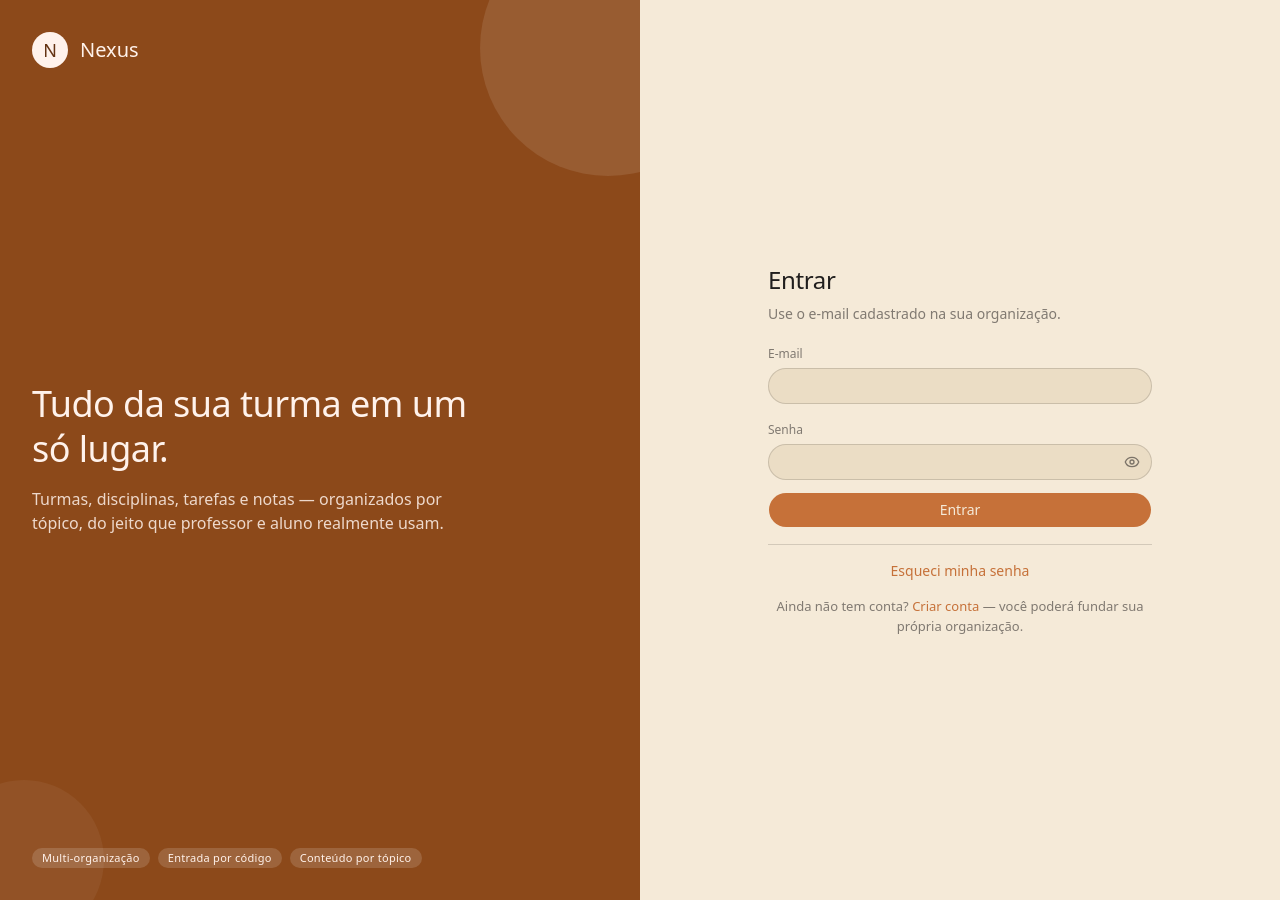
Test: LoginPage › shows how long the block lasts instead of blaming the password
The width and height of the screenshot is (1280, 900).
Type "user@test.com" into the field labelled "E-mail" at [960, 386], box x1=768 y1=368 x2=1152 y2=404
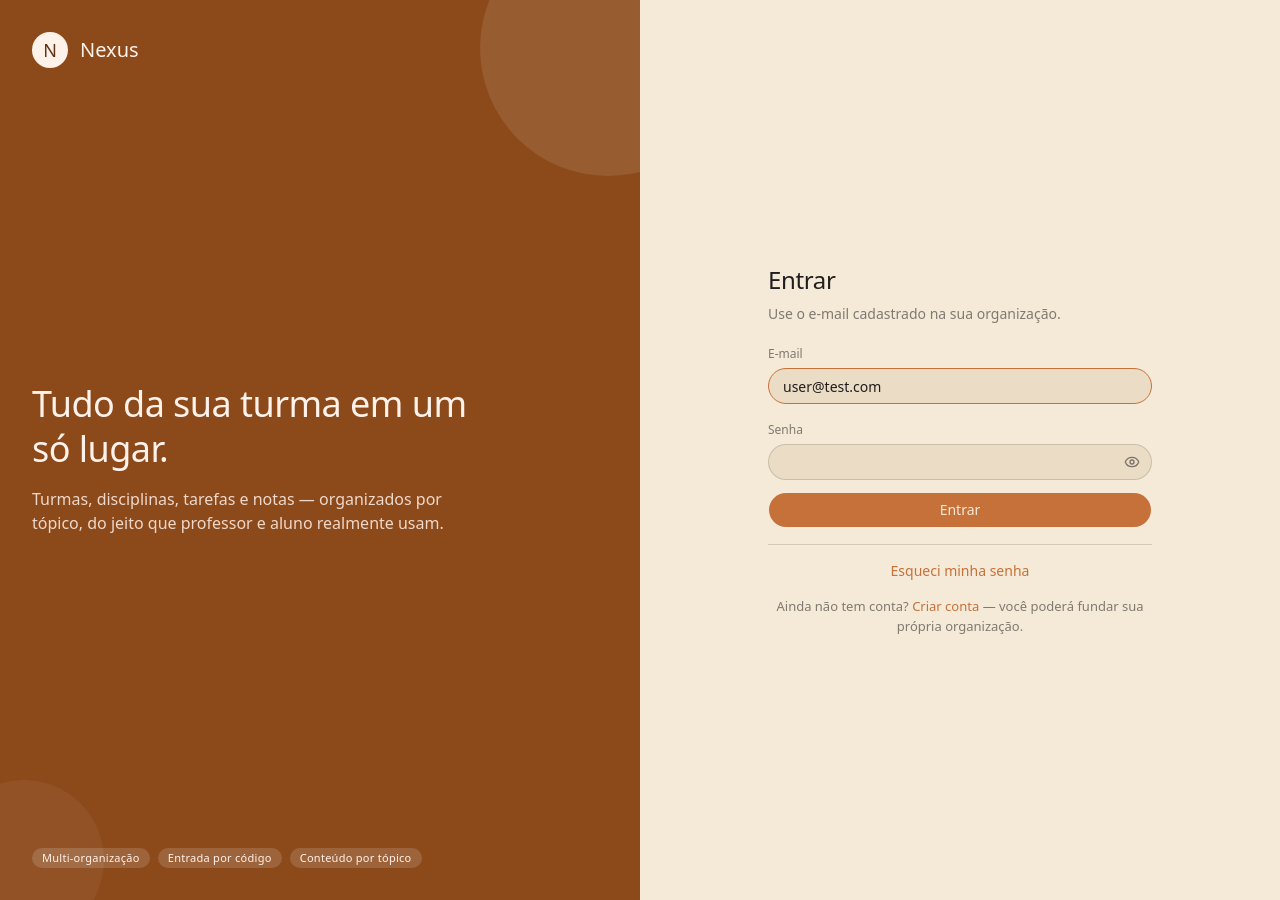
Type "password123" into the password field labelled "Senha" at [960, 462], box x1=768 y1=444 x2=1152 y2=480
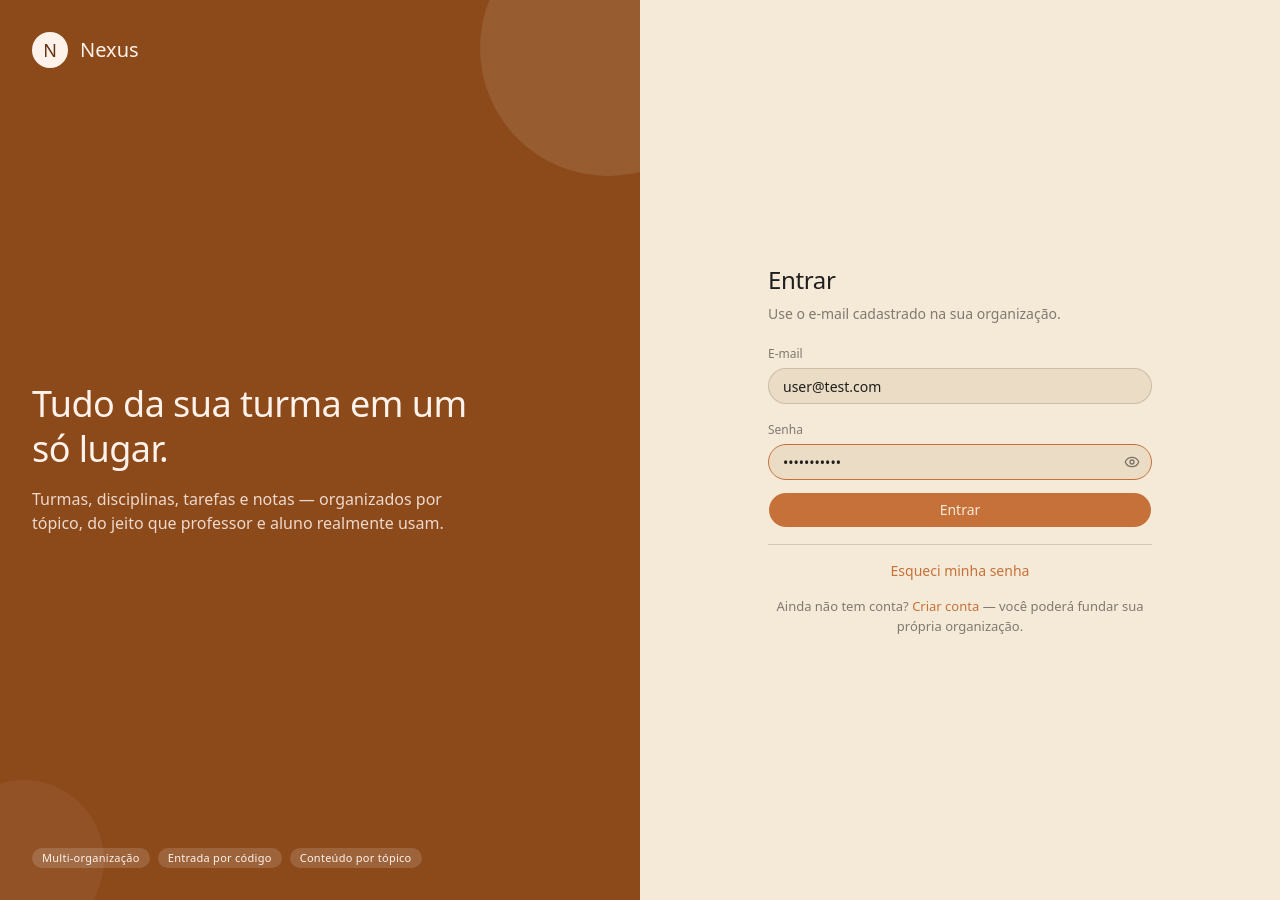
Click the button "Entrar" at [960, 510], box x1=768 y1=492 x2=1152 y2=528
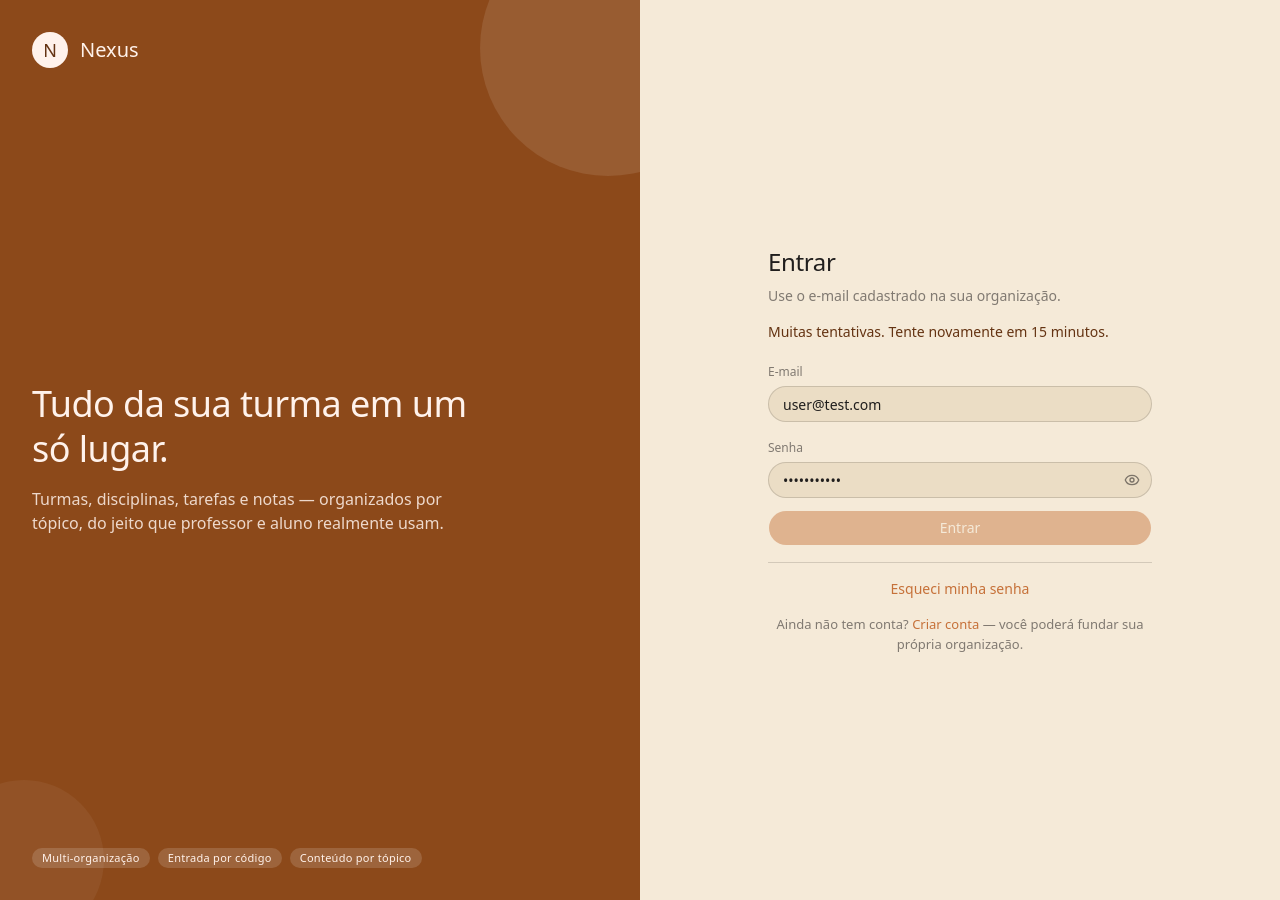
Expected: the text "Muitas tentativas. Tente novamente em 15 minutos." is shown, x1=768 y1=322 x2=1152 y2=342
